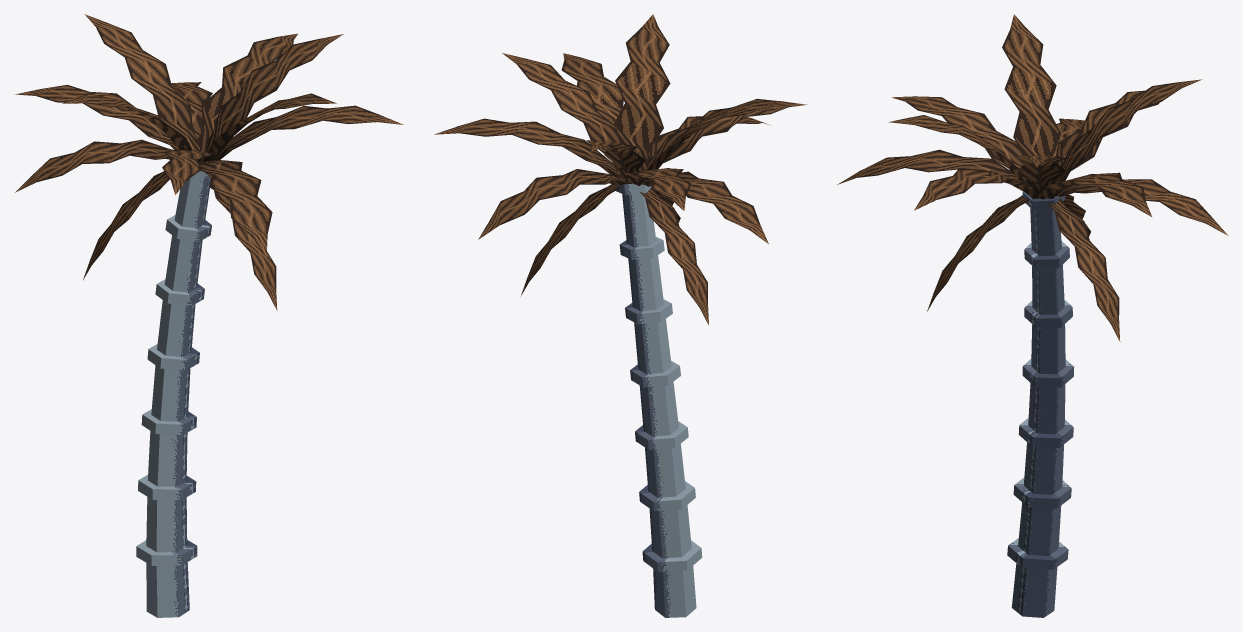
The model's file is FLO-09_Palma_de_hierro.gltf.
3 renders of one model, left to right at view 1: azimuth 30°, elevation 25°; view 2: azimuth 150°, elevation 25°; view 3: azimuth 270°, elevation 25°, orthographic. The views are drawn at different scales.
Parts seen in each view (by area): view 1: FLO-09_Palma_de_hierro; view 2: FLO-09_Palma_de_hierro; view 3: FLO-09_Palma_de_hierro.
Part boxes in pixels (x1=…): FLO-09_Palma_de_hierro: x1=15, y1=14, x2=403, y2=617; FLO-09_Palma_de_hierro: x1=434, y1=14, x2=807, y2=617; FLO-09_Palma_de_hierro: x1=837, y1=14, x2=1228, y2=617.
Size of what is drawn, in the model's own units: 2.54 by 4.18 by 2.76.
1 material, 1 textured.
